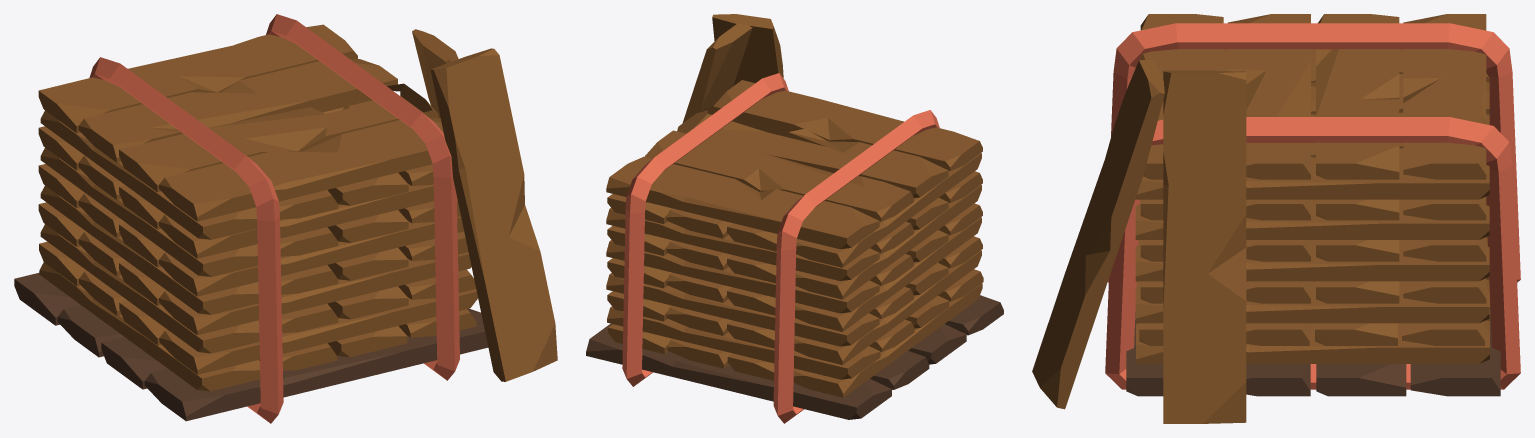
File: HighWoodBox.fbx
3 views of the same model, side by side, from view 1: azimuth 30°, elevation 25°; view 2: azimuth 150°, elevation 25°; view 3: azimuth 270°, elevation 25° (orthographic). The views are drawn at different scales.
Parts seen in each view (by area): view 1: Wood, WoodenBox; view 2: Wood, WoodenBox; view 3: Wood, WoodenBox.
Part boxes in pixels (x1,y1,x2,y2): Wood: [38, 14, 557, 423]; WoodenBox: [14, 273, 488, 421]; Wood: [606, 14, 983, 423]; WoodenBox: [586, 295, 1003, 419]; Wood: [1032, 14, 1520, 423]; WoodenBox: [1126, 302, 1500, 396].
Bounding box in the file's own units: 170 × 132 × 176.
